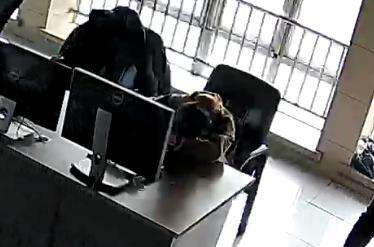sleep: (134, 88, 248, 174)
